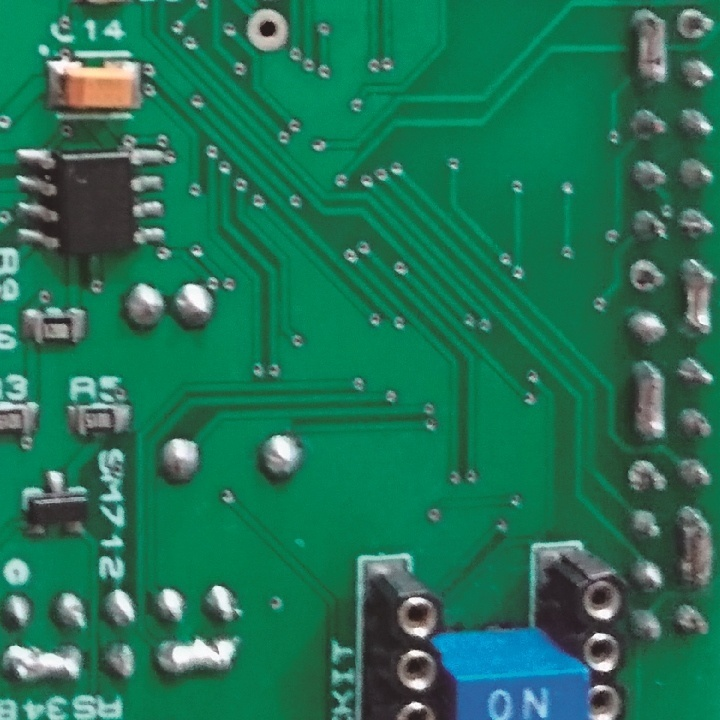F: (245, 3, 294, 59), (625, 454, 665, 498), (627, 253, 665, 296), (677, 6, 716, 42)
P: (146, 630, 241, 680), (1, 638, 88, 689), (627, 358, 673, 448), (675, 500, 716, 593), (627, 6, 671, 89), (681, 255, 718, 343)
